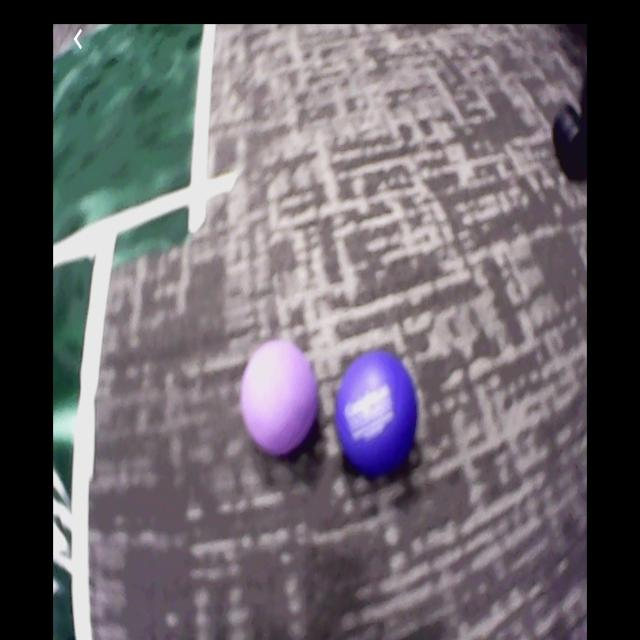ball: (339, 353, 420, 472), (241, 343, 320, 458)
